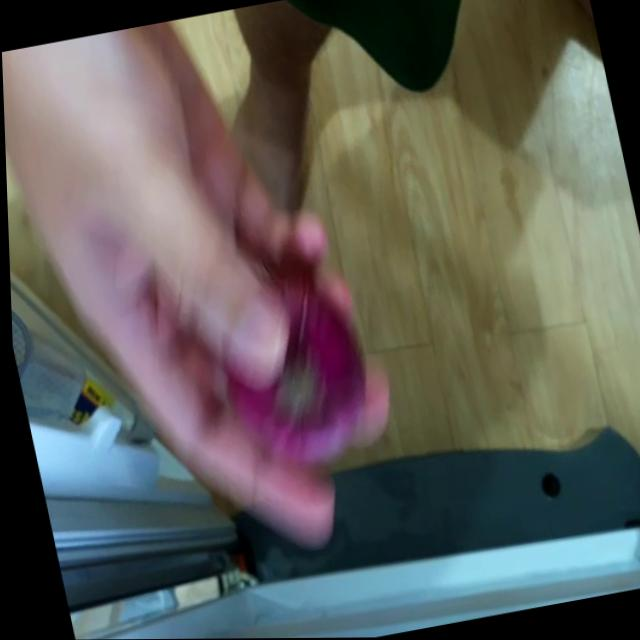onion: (199, 250, 374, 474)
